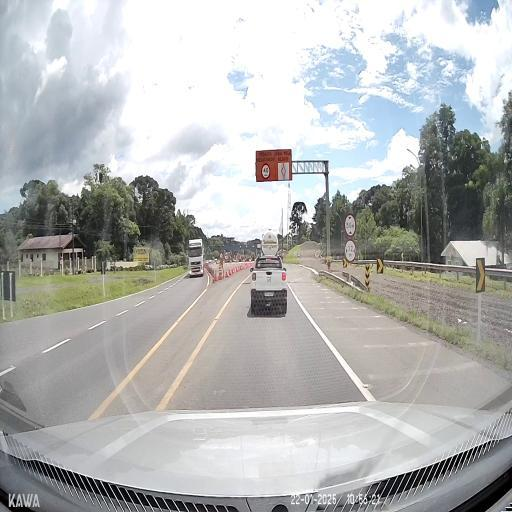R-19: (261, 163, 270, 179), (314, 250, 320, 258), (224, 252, 229, 260)
